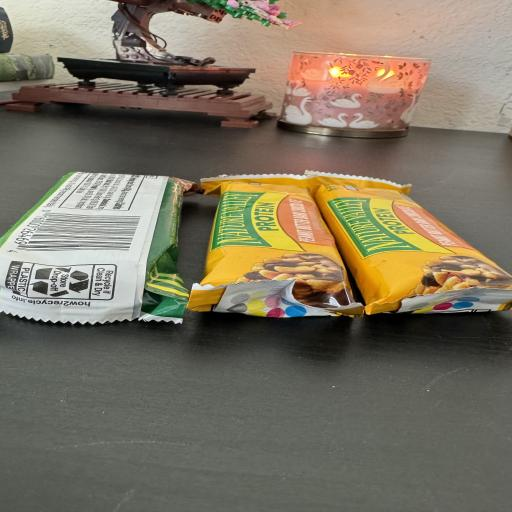granola: (229, 171, 511, 314), (0, 173, 197, 323), (315, 174, 511, 314), (188, 178, 363, 317)
